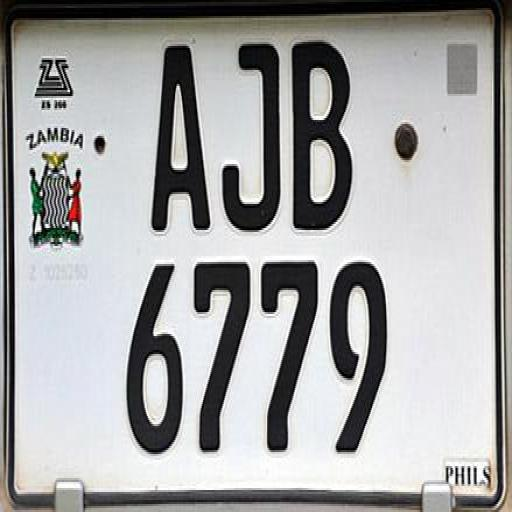number-plates: (102, 8, 414, 471)
